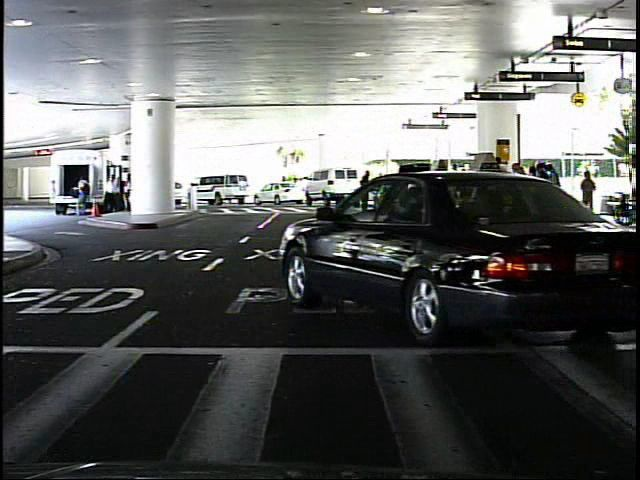person: (580, 165, 599, 222), (363, 165, 370, 197)
